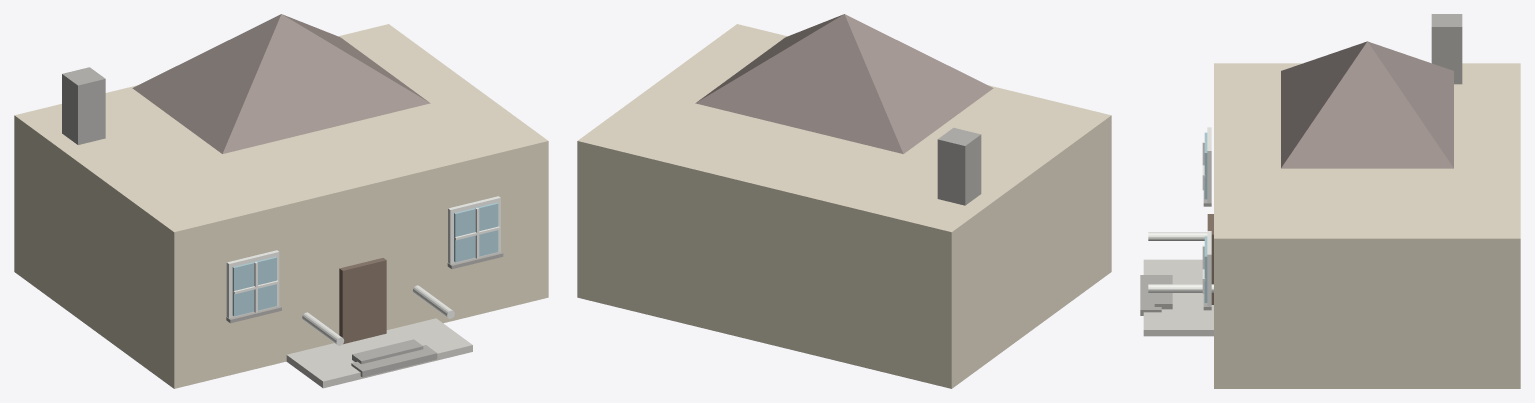
File: house_founders.glb
3 renders of one model, left to right at view 1: azimuth 30°, elevation 25°; view 2: azimuth 150°, elevation 25°; view 3: azimuth 270°, elevation 25°, orthographic. The views are drawn at different scales.
Parts seen in each view (by area): view 1: part_00, part_01, part_03, part_02, part_18, part_05, part_10, part_16, part_04, part_09, part_17, part_14 (+1 smaller); view 2: part_00, part_01, part_18; view 3: part_00, part_01, part_03, part_18, part_16, part_14, part_15, part_17, part_04, part_09.
Boxes of the visible parts, <box> form: part_00: <box>14,24,548,388</box>; part_01: <box>132,14,430,153</box>; part_03: <box>286,318,472,388</box>; part_02: <box>339,258,386,344</box>; part_18: <box>62,67,105,144</box>; part_05: <box>232,256,276,316</box>; part_10: <box>454,202,498,262</box>; part_16: <box>351,345,437,377</box>; part_04: <box>226,250,279,318</box>; part_09: <box>448,196,500,264</box>; part_17: <box>352,339,423,364</box>; part_14: <box>302,312,344,345</box>; part_00: <box>577,24,1111,388</box>; part_01: <box>695,14,993,153</box>; part_18: <box>937,127,981,205</box>; part_00: <box>1214,63,1520,388</box>; part_01: <box>1281,41,1453,168</box>; part_03: <box>1143,259,1213,336</box>; part_18: <box>1431,14,1462,84</box>; part_16: <box>1140,275,1161,315</box>; part_14: <box>1148,232,1207,240</box>; part_15: <box>1148,284,1213,292</box>; part_17: <box>1154,275,1172,309</box>; part_04: <box>1207,127,1211,202</box>; part_09: <box>1207,231,1211,306</box>.
Size of the model in its own units: 11.5 by 7.95 by 10.55.
